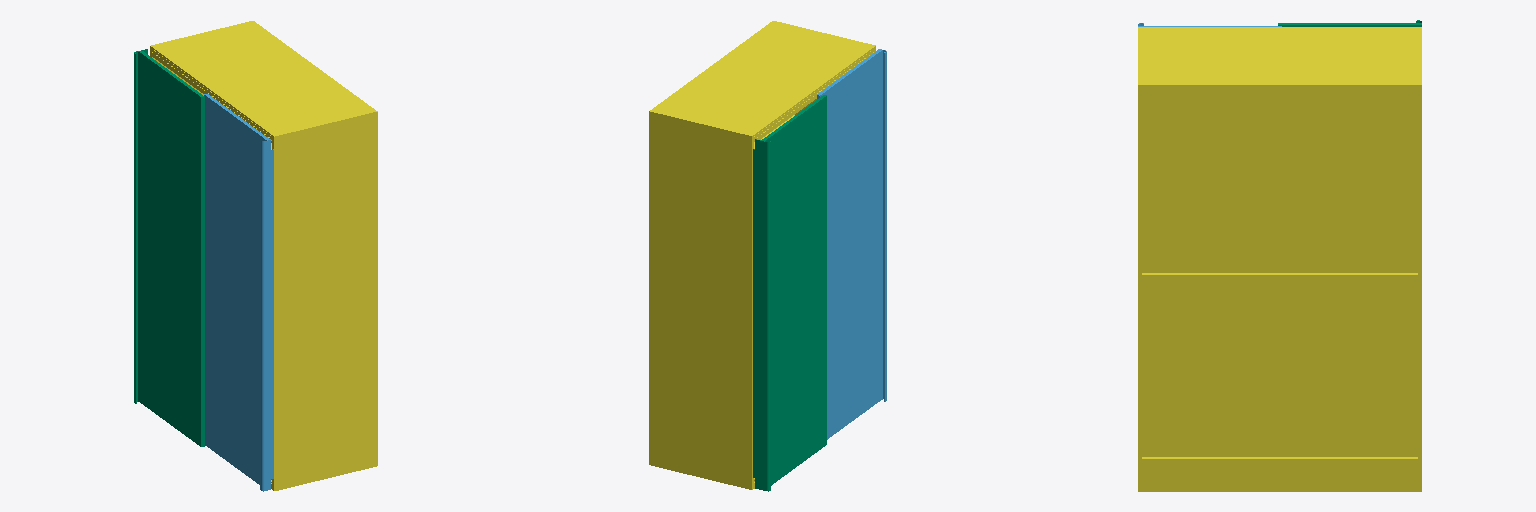
robot.urdf — partnet_6d63f6894c2a8cfe4c3aee8e9d3a6ffa:
<?xml version="1.0" ?>
<robot name="partnet_6d63f6894c2a8cfe4c3aee8e9d3a6ffa">
	<link name="base"/>
	<link name="link_0">
		<visual name="cabinet_door_surface-7">
			<origin xyz="0 0 0"/>
			<geometry>
				<mesh filename="textured_objs/original-42.obj"/>
			</geometry>
		</visual>
		<visual name="handle-8">
			<origin xyz="0 0 0"/>
			<geometry>
				<mesh filename="textured_objs/original-38.obj"/>
			</geometry>
		</visual>
		<visual name="handle-8">
			<origin xyz="0 0 0"/>
			<geometry>
				<mesh filename="textured_objs/original-40.obj"/>
			</geometry>
		</visual>
		<visual name="handle-8">
			<origin xyz="0 0 0"/>
			<geometry>
				<mesh filename="textured_objs/original-39.obj"/>
			</geometry>
		</visual>
		<collision>
			<origin xyz="0 0 0"/>
			<geometry>
				<mesh filename="textured_objs/original-42.obj"/>
			</geometry>
		</collision>
		<collision>
			<origin xyz="0 0 0"/>
			<geometry>
				<mesh filename="textured_objs/original-38.obj"/>
			</geometry>
		</collision>
		<collision>
			<origin xyz="0 0 0"/>
			<geometry>
				<mesh filename="textured_objs/original-40.obj"/>
			</geometry>
		</collision>
		<collision>
			<origin xyz="0 0 0"/>
			<geometry>
				<mesh filename="textured_objs/original-39.obj"/>
			</geometry>
		</collision>
	</link>
	<joint name="joint_0" type="prismatic">
		<origin xyz="0 0 0"/>
		<axis xyz="-1 0 0"/>
		<child link="link_0"/>
		<parent link="link_2"/>
		<limit lower="0" upper="0.524"/>
	</joint>
	<link name="link_1">
		<visual name="cabinet_door_surface-9">
			<origin xyz="0 0 0"/>
			<geometry>
				<mesh filename="textured_objs/original-35.obj"/>
			</geometry>
		</visual>
		<visual name="handle-10">
			<origin xyz="0 0 0"/>
			<geometry>
				<mesh filename="textured_objs/original-33.obj"/>
			</geometry>
		</visual>
		<visual name="handle-10">
			<origin xyz="0 0 0"/>
			<geometry>
				<mesh filename="textured_objs/original-31.obj"/>
			</geometry>
		</visual>
		<visual name="handle-10">
			<origin xyz="0 0 0"/>
			<geometry>
				<mesh filename="textured_objs/original-32.obj"/>
			</geometry>
		</visual>
		<visual name="handle-10">
			<origin xyz="0 0 0"/>
			<geometry>
				<mesh filename="textured_objs/original-34.obj"/>
			</geometry>
		</visual>
		<collision>
			<origin xyz="0 0 0"/>
			<geometry>
				<mesh filename="textured_objs/original-35.obj"/>
			</geometry>
		</collision>
		<collision>
			<origin xyz="0 0 0"/>
			<geometry>
				<mesh filename="textured_objs/original-33.obj"/>
			</geometry>
		</collision>
		<collision>
			<origin xyz="0 0 0"/>
			<geometry>
				<mesh filename="textured_objs/original-31.obj"/>
			</geometry>
		</collision>
		<collision>
			<origin xyz="0 0 0"/>
			<geometry>
				<mesh filename="textured_objs/original-32.obj"/>
			</geometry>
		</collision>
		<collision>
			<origin xyz="0 0 0"/>
			<geometry>
				<mesh filename="textured_objs/original-34.obj"/>
			</geometry>
		</collision>
	</link>
	<joint name="joint_1" type="prismatic">
		<origin xyz="0 0 0"/>
		<axis xyz="1 0 0"/>
		<child link="link_1"/>
		<parent link="link_2"/>
		<limit lower="0" upper="0.5960000000000001"/>
	</joint>
	<link name="link_2">
		<visual name="shelf-12">
			<origin xyz="0 0 0"/>
			<geometry>
				<mesh filename="textured_objs/original-20.obj"/>
			</geometry>
		</visual>
		<visual name="shelf-13">
			<origin xyz="0 0 0"/>
			<geometry>
				<mesh filename="textured_objs/original-19.obj"/>
			</geometry>
		</visual>
		<visual name="shelf-14">
			<origin xyz="0 0 0"/>
			<geometry>
				<mesh filename="textured_objs/original-18.obj"/>
			</geometry>
		</visual>
		<visual name="vertical_side_panel-15">
			<origin xyz="0 0 0"/>
			<geometry>
				<mesh filename="textured_objs/original-4.obj"/>
			</geometry>
		</visual>
		<visual name="vertical_side_panel-15">
			<origin xyz="0 0 0"/>
			<geometry>
				<mesh filename="textured_objs/original-3.obj"/>
			</geometry>
		</visual>
		<visual name="vertical_side_panel-16">
			<origin xyz="0 0 0"/>
			<geometry>
				<mesh filename="textured_objs/original-7.obj"/>
			</geometry>
		</visual>
		<visual name="vertical_side_panel-16">
			<origin xyz="0 0 0"/>
			<geometry>
				<mesh filename="textured_objs/original-6.obj"/>
			</geometry>
		</visual>
		<visual name="back_panel-17">
			<origin xyz="0 0 0"/>
			<geometry>
				<mesh filename="textured_objs/original-12.obj"/>
			</geometry>
		</visual>
		<visual name="bottom_panel-18">
			<origin xyz="0 0 0"/>
			<geometry>
				<mesh filename="textured_objs/original-16.obj"/>
			</geometry>
		</visual>
		<visual name="top_panel-19">
			<origin xyz="0 0 0"/>
			<geometry>
				<mesh filename="textured_objs/original-21.obj"/>
			</geometry>
		</visual>
		<visual name="top_panel-19">
			<origin xyz="0 0 0"/>
			<geometry>
				<mesh filename="textured_objs/original-23.obj"/>
			</geometry>
		</visual>
		<visual name="top_panel-19">
			<origin xyz="0 0 0"/>
			<geometry>
				<mesh filename="textured_objs/original-10.obj"/>
			</geometry>
		</visual>
		<visual name="frame_horizontal_bar-20">
			<origin xyz="0 0 0"/>
			<geometry>
				<mesh filename="textured_objs/original-15.obj"/>
			</geometry>
		</visual>
		<visual name="frame_horizontal_bar-20">
			<origin xyz="0 0 0"/>
			<geometry>
				<mesh filename="textured_objs/original-27.obj"/>
			</geometry>
		</visual>
		<visual name="frame_horizontal_bar-20">
			<origin xyz="0 0 0"/>
			<geometry>
				<mesh filename="textured_objs/original-26.obj"/>
			</geometry>
		</visual>
		<visual name="frame_horizontal_bar-21">
			<origin xyz="0 0 0"/>
			<geometry>
				<mesh filename="textured_objs/original-24.obj"/>
			</geometry>
		</visual>
		<visual name="frame_horizontal_bar-21">
			<origin xyz="0 0 0"/>
			<geometry>
				<mesh filename="textured_objs/original-9.obj"/>
			</geometry>
		</visual>
		<visual name="frame_horizontal_bar-22">
			<origin xyz="0 0 0"/>
			<geometry>
				<mesh filename="textured_objs/original-11.obj"/>
			</geometry>
		</visual>
		<visual name="frame_horizontal_bar-23">
			<origin xyz="0 0 0"/>
			<geometry>
				<mesh filename="textured_objs/original-13.obj"/>
			</geometry>
		</visual>
		<visual name="frame_horizontal_bar-24">
			<origin xyz="0 0 0"/>
			<geometry>
				<mesh filename="textured_objs/original-28.obj"/>
			</geometry>
		</visual>
		<collision>
			<origin xyz="0 0 0"/>
			<geometry>
				<mesh filename="textured_objs/original-20.obj"/>
			</geometry>
		</collision>
		<collision>
			<origin xyz="0 0 0"/>
			<geometry>
				<mesh filename="textured_objs/original-19.obj"/>
			</geometry>
		</collision>
		<collision>
			<origin xyz="0 0 0"/>
			<geometry>
				<mesh filename="textured_objs/original-18.obj"/>
			</geometry>
		</collision>
		<collision>
			<origin xyz="0 0 0"/>
			<geometry>
				<mesh filename="textured_objs/original-4.obj"/>
			</geometry>
		</collision>
		<collision>
			<origin xyz="0 0 0"/>
			<geometry>
				<mesh filename="textured_objs/original-3.obj"/>
			</geometry>
		</collision>
		<collision>
			<origin xyz="0 0 0"/>
			<geometry>
				<mesh filename="textured_objs/original-7.obj"/>
			</geometry>
		</collision>
		<collision>
			<origin xyz="0 0 0"/>
			<geometry>
				<mesh filename="textured_objs/original-6.obj"/>
			</geometry>
		</collision>
		<collision>
			<origin xyz="0 0 0"/>
			<geometry>
				<mesh filename="textured_objs/original-12.obj"/>
			</geometry>
		</collision>
		<collision>
			<origin xyz="0 0 0"/>
			<geometry>
				<mesh filename="textured_objs/original-16.obj"/>
			</geometry>
		</collision>
		<collision>
			<origin xyz="0 0 0"/>
			<geometry>
				<mesh filename="textured_objs/original-21.obj"/>
			</geometry>
		</collision>
		<collision>
			<origin xyz="0 0 0"/>
			<geometry>
				<mesh filename="textured_objs/original-23.obj"/>
			</geometry>
		</collision>
		<collision>
			<origin xyz="0 0 0"/>
			<geometry>
				<mesh filename="textured_objs/original-10.obj"/>
			</geometry>
		</collision>
		<collision>
			<origin xyz="0 0 0"/>
			<geometry>
				<mesh filename="textured_objs/original-15.obj"/>
			</geometry>
		</collision>
		<collision>
			<origin xyz="0 0 0"/>
			<geometry>
				<mesh filename="textured_objs/original-27.obj"/>
			</geometry>
		</collision>
		<collision>
			<origin xyz="0 0 0"/>
			<geometry>
				<mesh filename="textured_objs/original-26.obj"/>
			</geometry>
		</collision>
		<collision>
			<origin xyz="0 0 0"/>
			<geometry>
				<mesh filename="textured_objs/original-24.obj"/>
			</geometry>
		</collision>
		<collision>
			<origin xyz="0 0 0"/>
			<geometry>
				<mesh filename="textured_objs/original-9.obj"/>
			</geometry>
		</collision>
		<collision>
			<origin xyz="0 0 0"/>
			<geometry>
				<mesh filename="textured_objs/original-11.obj"/>
			</geometry>
		</collision>
		<collision>
			<origin xyz="0 0 0"/>
			<geometry>
				<mesh filename="textured_objs/original-13.obj"/>
			</geometry>
		</collision>
		<collision>
			<origin xyz="0 0 0"/>
			<geometry>
				<mesh filename="textured_objs/original-28.obj"/>
			</geometry>
		</collision>
	</link>
	<joint name="joint_2" type="fixed">
		<origin rpy="1.570796326794897 0 -1.570796326794897" xyz="0 0 0"/>
		<child link="link_2"/>
		<parent link="base"/>
	</joint>
</robot>

--- Facts derived from the render (not from the file) ---
3 views of the same robot in one strip: view 1: azimuth 30°, elevation 25°; view 2: azimuth 150°, elevation 25°; view 3: azimuth 270°, elevation 25° (orthographic).
Robot: partnet_6d63f6894c2a8cfe4c3aee8e9d3a6ffa — 4 links, 3 joints (2 prismatic, 1 fixed); root link base; default pose: every joint at zero.
Links seen in each view (by area): view 1: link_2, link_1, link_0; view 2: link_2, link_1, link_0; view 3: link_2, link_1.
Link boxes in pixels (x1=…): link_2: x1=150, y1=21, x2=377, y2=490; link_1: x1=134, y1=49, x2=204, y2=446; link_0: x1=204, y1=94, x2=273, y2=491; link_2: x1=649, y1=21, x2=875, y2=489; link_1: x1=753, y1=95, x2=826, y2=491; link_0: x1=817, y1=49, x2=886, y2=439; link_2: x1=1138, y1=27, x2=1421, y2=491; link_1: x1=1278, y1=20, x2=1421, y2=26.
Bounding box of the posed robot: 0.5932 × 1.06 × 1.68 m (x, y, z).
Meshes: 29 distinct files referenced, 29 mesh visuals loaded (29 OBJ).